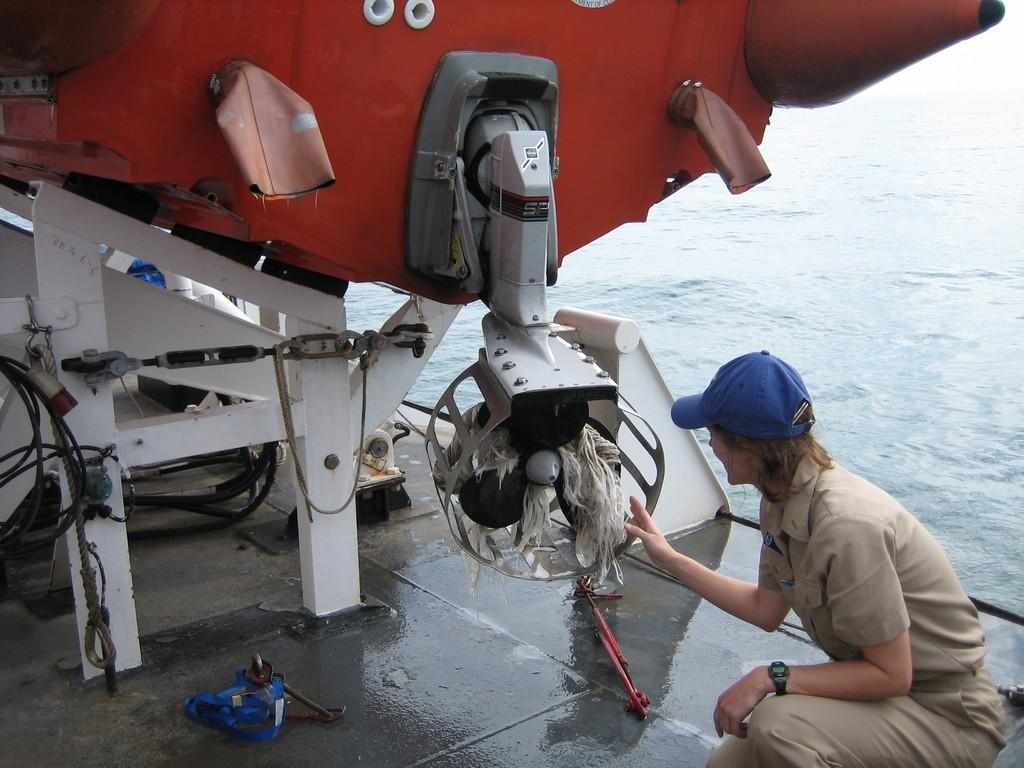Hat: (669, 344, 821, 442)
